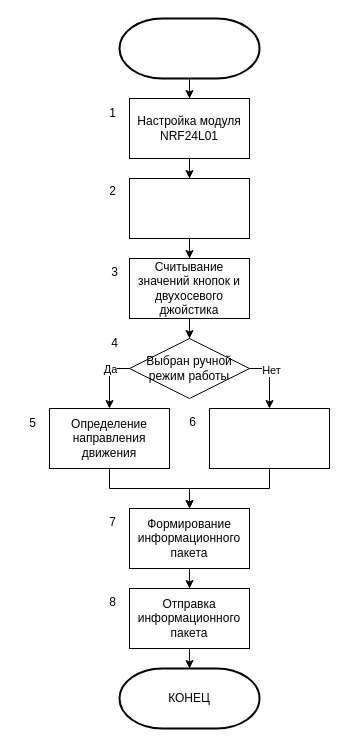
Image size: 347x746. Some labels were removed from this diagram. The shapes that lost their labels are listed below. From the top down, each one's box as (x1, y1, x2, y2) in pixels, then its label:
(118, 17, 260, 79): НАЧАЛО
(128, 178, 250, 238): Настройка используемых пинов
(208, 408, 330, 468): Определение автономного режима работы
